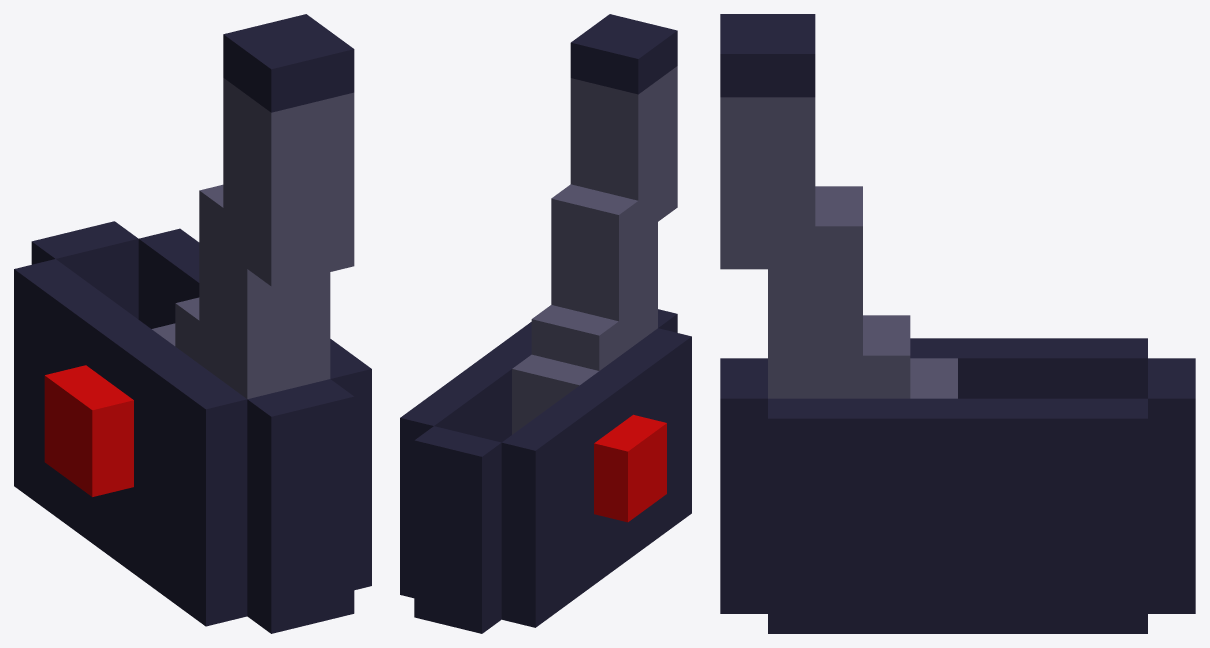
The model's file is levierRouge.obj.
The picture shows the model from 3 angles, left to right: view 1: azimuth 30°, elevation 25°; view 2: azimuth 150°, elevation 25°; view 3: azimuth 270°, elevation 25°; orthographic projection. The views are drawn at different scales.
Size of the model in its own units: 0.5 by 1.3 by 1.
1 material, 1 textured.
